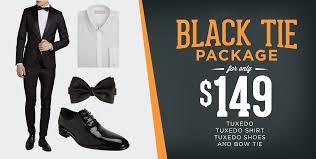F_M_suit jacket: (12, 4, 71, 77)
F_dress pants: (19, 64, 57, 138)
